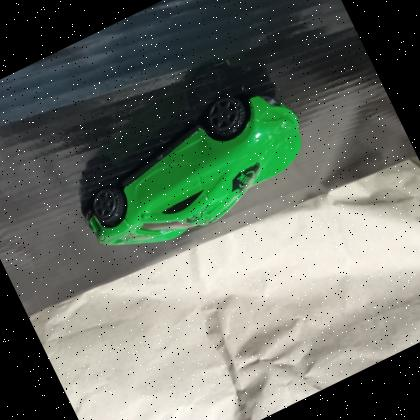Car: (56, 64, 327, 276)
